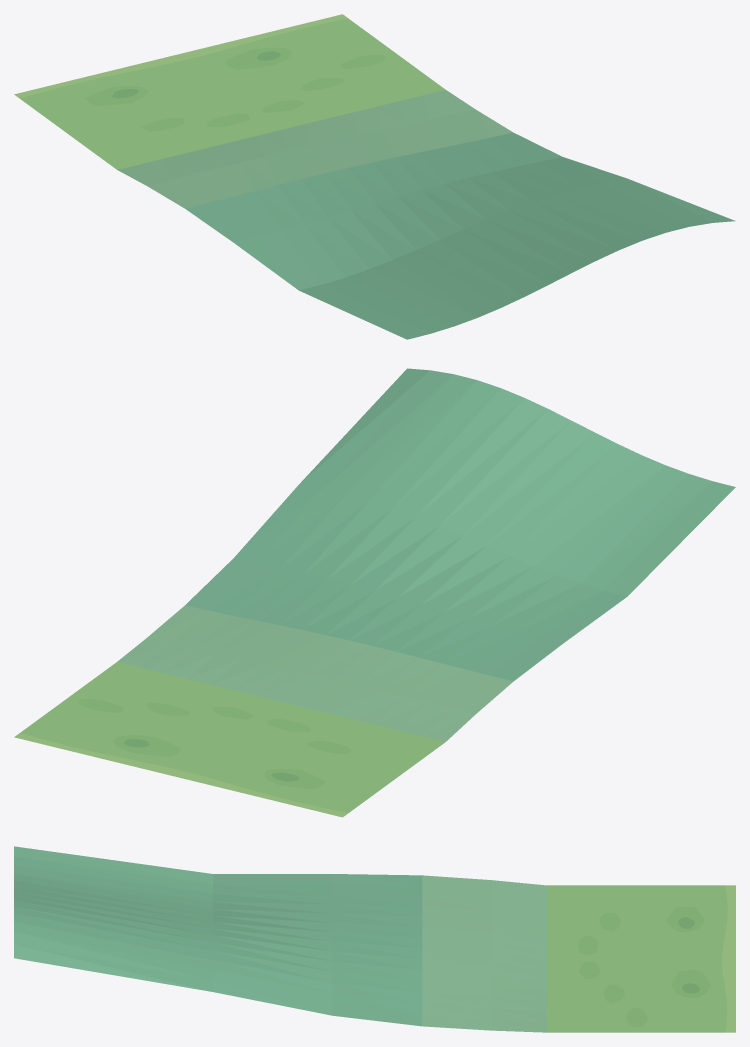
The model's file is Prairie_1.fbx.
3 views of the same model, one above another, from view 1: azimuth 30°, elevation 25°; view 2: azimuth 150°, elevation 25°; view 3: azimuth 270°, elevation 25° (orthographic). The views are drawn at different scales.
Parts seen in each view (by area): view 1: Prairie_1; view 2: Prairie_1; view 3: Prairie_1.
Boxes of the visible parts, <box> form: Prairie_1: <box>14,14,735,339</box>; Prairie_1: <box>14,368,735,817</box>; Prairie_1: <box>14,846,735,1032</box>.
Bounding box in the file's own units: 7000 × 1763 × 14504.
1 material, 1 textured.
